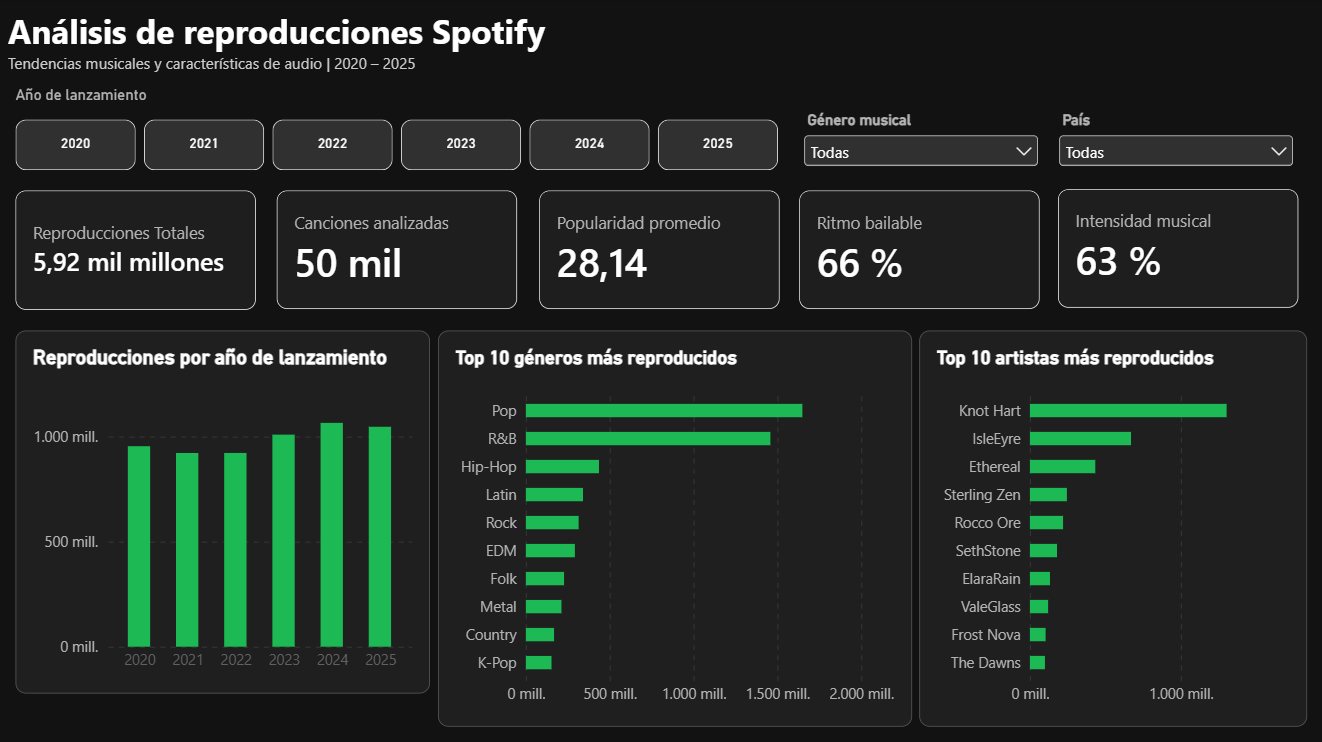

The dashboard page shown, as its layout file describes it:
{"tool":"powerbi","page":{"name":"Resumen General","canvas":[1280,720],"ordinal":0},"visuals":[{"type":"textbox","box":[10.2,10.2,556.7,75.2],"z":0},{"type":"cardVisual","fields":{"Data":["spotify_streaming_clean.Total Streams Display"]},"box":[16.9,185.7,232,115],"z":1000},{"type":"cardVisual","fields":{"Data":["spotify_streaming_clean.Total Tracks"]},"box":[269.3,186,232,114],"z":2000},{"type":"cardVisual","fields":{"Data":["spotify_streaming_clean.Avg Popularity"]},"box":[522.6,186,232,114.6],"z":3000},{"type":"cardVisual","fields":{"Data":["spotify_streaming_clean.Avg Danceability"]},"box":[773.6,186,232,114.6],"z":4000},{"type":"cardVisual","fields":{"Data":["spotify_streaming_clean.Avg Energy"]},"box":[1023.3,184.8,232,114.6],"z":5000},{"type":"columnChart","title":"Reproducciones por año de lanzamiento","fields":{"Category":["spotify_streaming_clean.release_year"],"Y":["spotify_streaming_clean.Total Streams"]},"box":[16.9,320.8,400,350],"z":6000},{"type":"clusteredBarChart","title":"Top 10 géneros más reproducidos","fields":{"Category":["spotify_streaming_clean.genre"],"Y":["spotify_streaming_clean.Total Streams"]},"box":[424.3,320.8,457.7,382.2],"z":7000},{"type":"clusteredBarChart","title":"Top 10 artistas más reproducidos","fields":{"Category":["spotify_streaming_clean.artist_name"],"Y":["spotify_streaming_clean.Total Streams"]},"box":[889.5,320.8,374.5,382.2],"z":8000},{"type":"advancedSlicerVisual","title":"Año de lanzamiento","fields":{"Values":["spotify_streaming_clean.release_year"]},"box":[16.9,84.5,737.1,82],"z":9000},{"type":"slicer","fields":{"Values":["spotify_streaming_clean.genre"]},"box":[773.3,108.6,235.3,66.4],"z":10000},{"type":"slicer","fields":{"Values":["spotify_streaming_clean.País"]},"box":[1019.4,108.6,235.3,66.4],"z":11000}]}

Visuals, with their boxes in screenshot pixels (x1, y1, x2, y2), scaled from the page's 1280x720 canvas onto the 1322x742 screenshot:
textbox: l=11, t=11, r=586, b=88
cardVisual - spotify_streaming_clean.Total Streams Display: l=17, t=191, r=257, b=310
cardVisual - spotify_streaming_clean.Total Tracks: l=278, t=192, r=518, b=309
cardVisual - spotify_streaming_clean.Avg Popularity: l=540, t=192, r=779, b=310
cardVisual - spotify_streaming_clean.Avg Danceability: l=799, t=192, r=1039, b=310
cardVisual - spotify_streaming_clean.Avg Energy: l=1057, t=190, r=1296, b=309
"Reproducciones por año de lanzamiento" columnChart: l=17, t=331, r=431, b=691
"Top 10 géneros más reproducidos" clusteredBarChart: l=438, t=331, r=911, b=724
"Top 10 artistas más reproducidos" clusteredBarChart: l=919, t=331, r=1305, b=724
"Año de lanzamiento" advancedSlicerVisual: l=17, t=87, r=779, b=172
slicer - spotify_streaming_clean.genre: l=799, t=112, r=1042, b=180
slicer - spotify_streaming_clean.País: l=1053, t=112, r=1296, b=180
